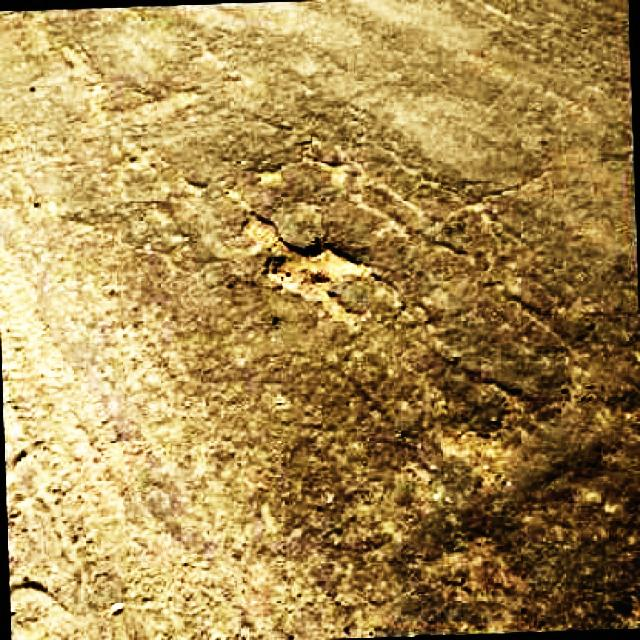pothole: (240, 208, 378, 317), (420, 411, 518, 489)
